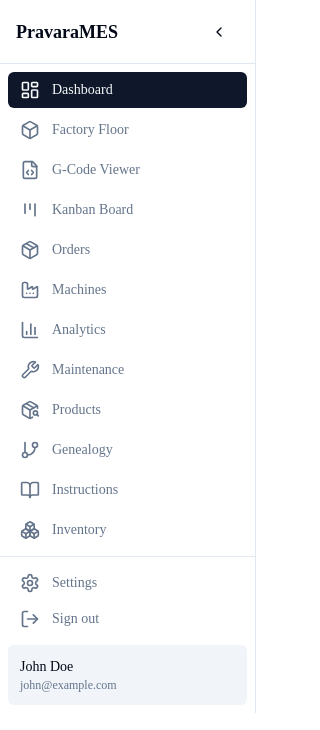
Test: Sidebar › does not display user info when collapsed
Click the button named "Collapse sidebar": (219, 32) x1=199 y1=12 x2=239 y2=52
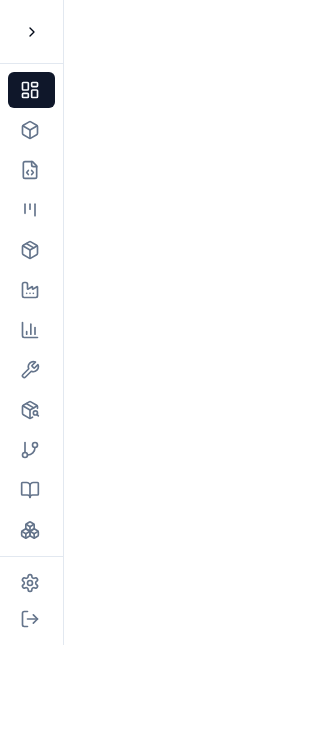
Expected: the text "John Doe" is gone
